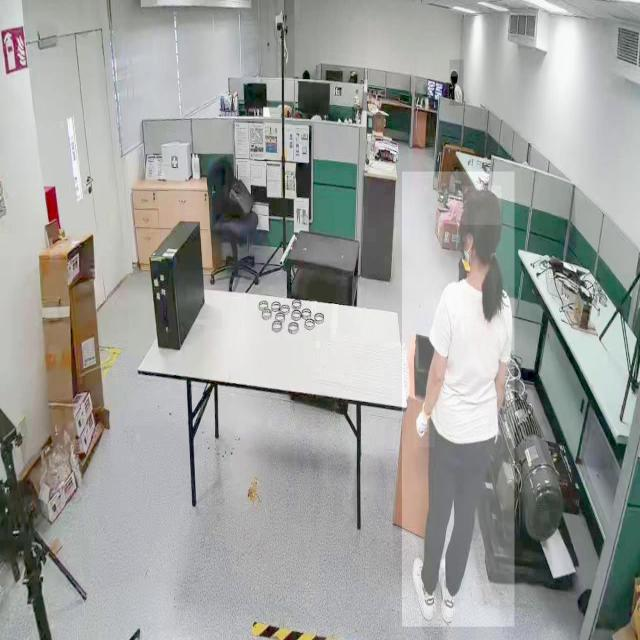hand_glove: (414, 396, 436, 448)
head_nohelmet: (462, 186, 502, 226), (450, 70, 458, 78)
person: (402, 172, 515, 628), (450, 60, 464, 106)
shoes: (407, 554, 437, 622), (437, 555, 458, 624)
